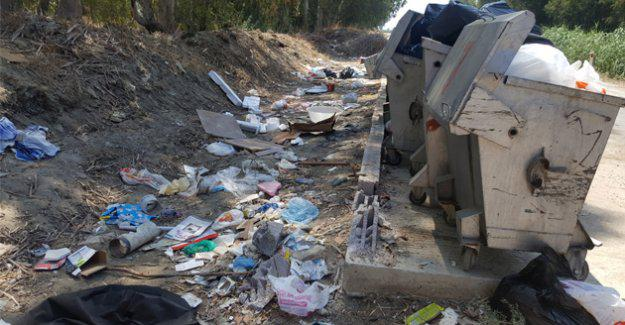Container: (461, 78, 620, 269), (427, 18, 511, 218), (381, 52, 508, 171), (388, 40, 411, 152)
Garbage: (190, 204, 340, 315), (56, 202, 185, 273), (205, 109, 301, 192), (504, 280, 625, 325), (511, 41, 612, 88), (306, 65, 366, 104)
